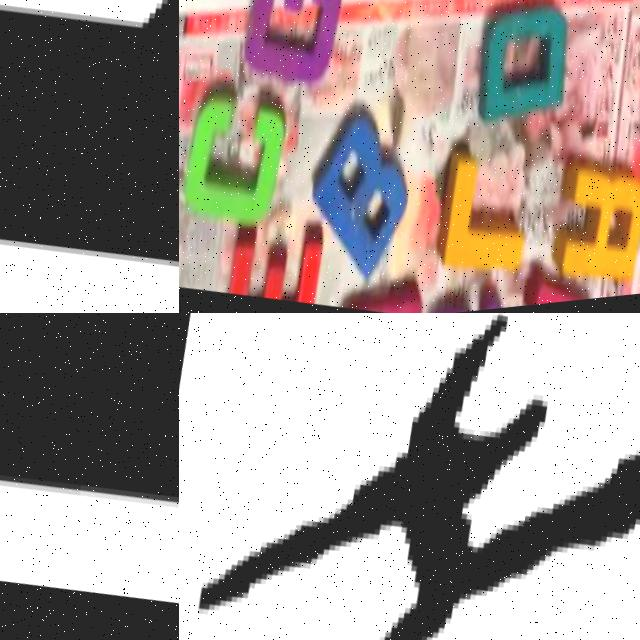B: (285, 100, 422, 285)
C: (179, 85, 287, 237)
D: (457, 0, 577, 139)
E: (0, 313, 179, 604)
G: (231, 0, 347, 94)
K: (0, 0, 179, 313)
L: (420, 151, 534, 283)
R: (537, 158, 640, 291)
